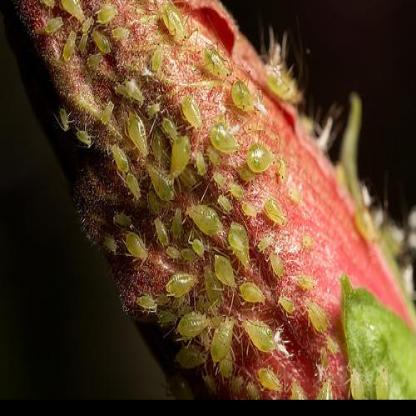aphid: (261, 52, 298, 105), (240, 308, 278, 358), (158, 8, 200, 47), (162, 130, 193, 182), (242, 130, 278, 173), (200, 38, 236, 79), (187, 198, 222, 239), (226, 223, 254, 270), (121, 227, 152, 268), (210, 116, 242, 155), (124, 113, 150, 158), (235, 276, 268, 311), (230, 77, 262, 113), (302, 299, 330, 340), (147, 160, 173, 204), (177, 339, 211, 372), (352, 202, 376, 248), (164, 271, 202, 300), (213, 312, 234, 364), (201, 262, 224, 308), (219, 356, 245, 395), (180, 306, 208, 340), (108, 128, 130, 171), (256, 363, 283, 396), (276, 283, 298, 323), (134, 289, 161, 321), (310, 367, 334, 403), (164, 240, 198, 265), (144, 94, 169, 127), (168, 203, 188, 244), (93, 2, 124, 28), (262, 201, 290, 227), (191, 148, 211, 184), (109, 203, 135, 230), (56, 102, 74, 139), (153, 215, 171, 252), (72, 121, 94, 151), (182, 99, 204, 129), (281, 376, 307, 401), (270, 251, 288, 285), (121, 169, 141, 199), (43, 10, 65, 37), (57, 0, 85, 21), (89, 30, 109, 58), (148, 46, 167, 75), (62, 28, 76, 67), (98, 99, 115, 131), (160, 112, 178, 142), (226, 178, 245, 206), (108, 22, 131, 43), (102, 228, 118, 257), (75, 12, 97, 31), (126, 79, 144, 102), (241, 201, 256, 224), (36, 0, 61, 10)
